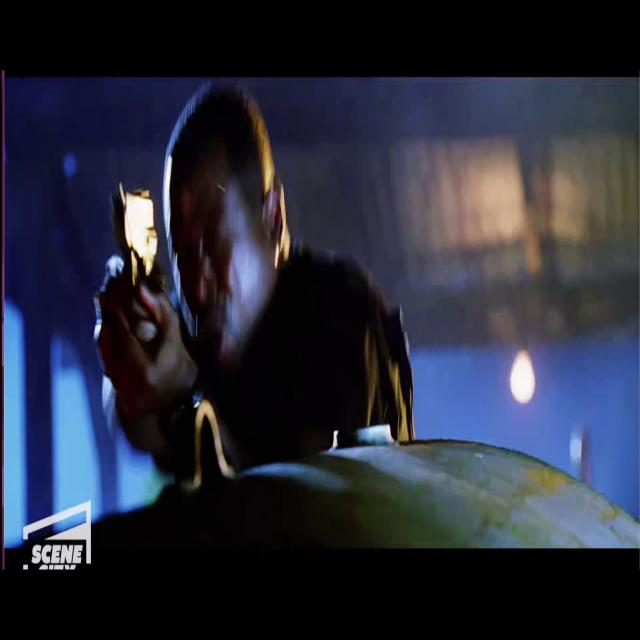weapons: (96, 152, 163, 358)
